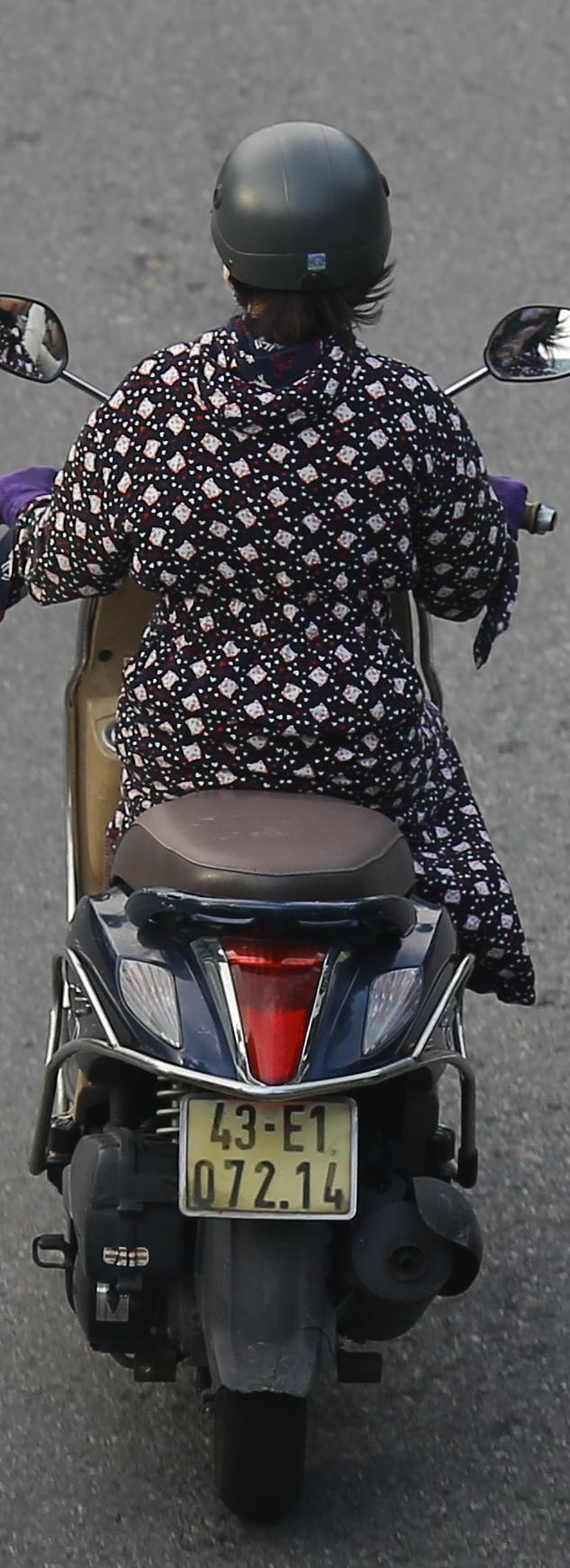LP: (175, 1086, 370, 1226)
helmet: (196, 100, 397, 362)
